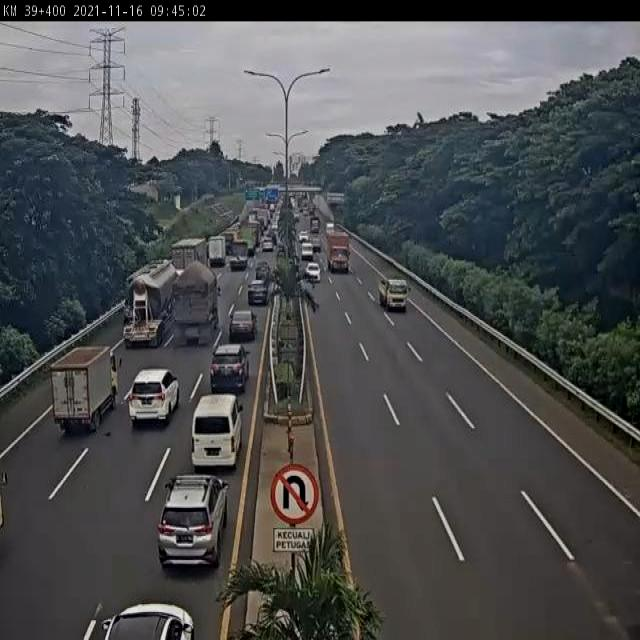Car: (156, 472, 229, 567), (98, 601, 198, 640), (126, 368, 180, 428), (208, 342, 250, 393), (228, 309, 257, 342), (247, 278, 269, 306), (305, 262, 321, 282), (255, 261, 271, 281), (300, 241, 314, 260), (262, 237, 274, 252), (311, 237, 321, 253), (299, 230, 309, 243)
Truck: (48, 345, 123, 434), (120, 258, 186, 352), (171, 260, 219, 346), (378, 273, 411, 314), (172, 238, 206, 274), (325, 230, 351, 274), (229, 237, 249, 270), (208, 235, 227, 268), (221, 229, 239, 255), (246, 221, 261, 251), (254, 208, 269, 234), (310, 216, 320, 234), (248, 212, 257, 226), (309, 205, 316, 217), (269, 203, 275, 214)
Van: (188, 392, 246, 470)
